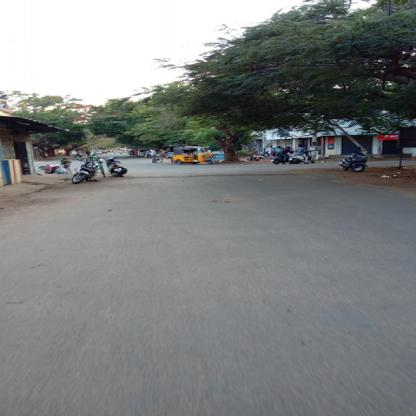speed-bumps: (97, 169, 348, 182)
